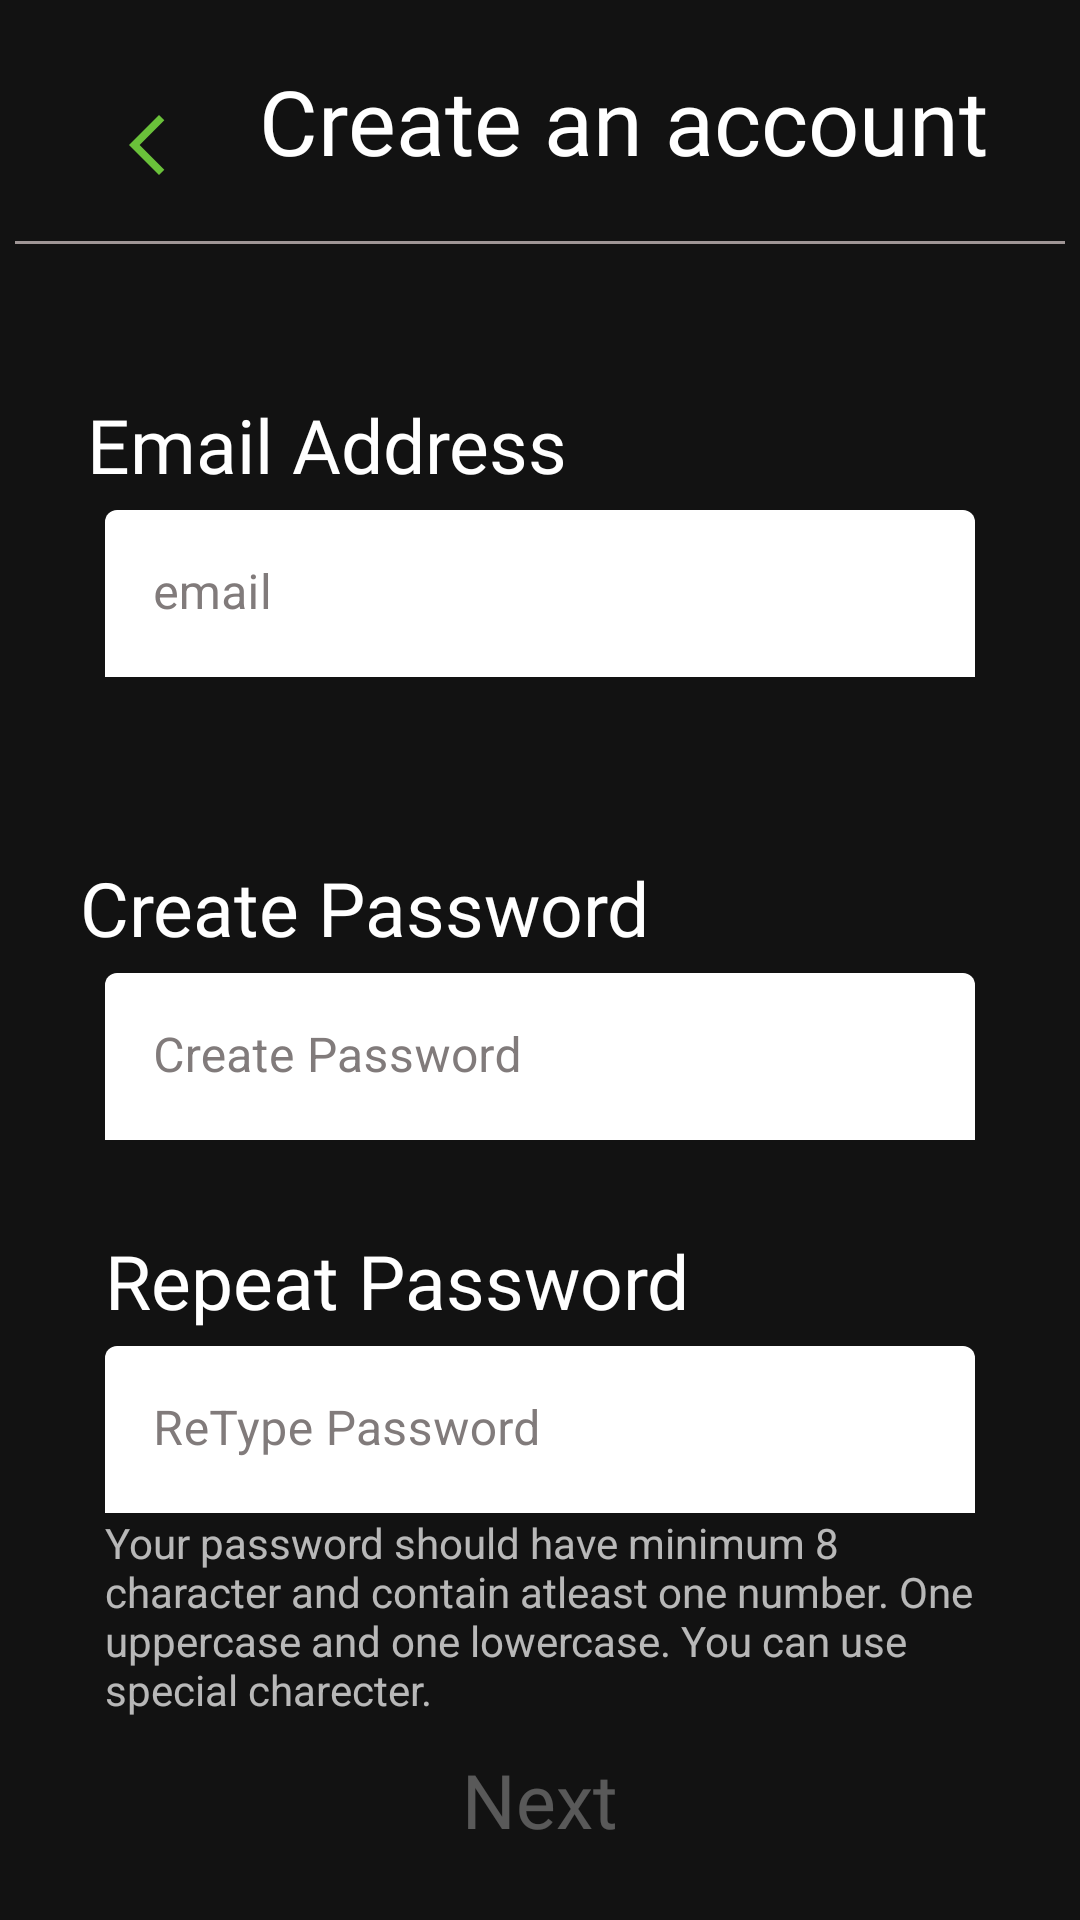

Point at icon controls on the screen. Image size 1080*1920, points as (x=x, y=y).
arrow back: (x=146, y=145)
